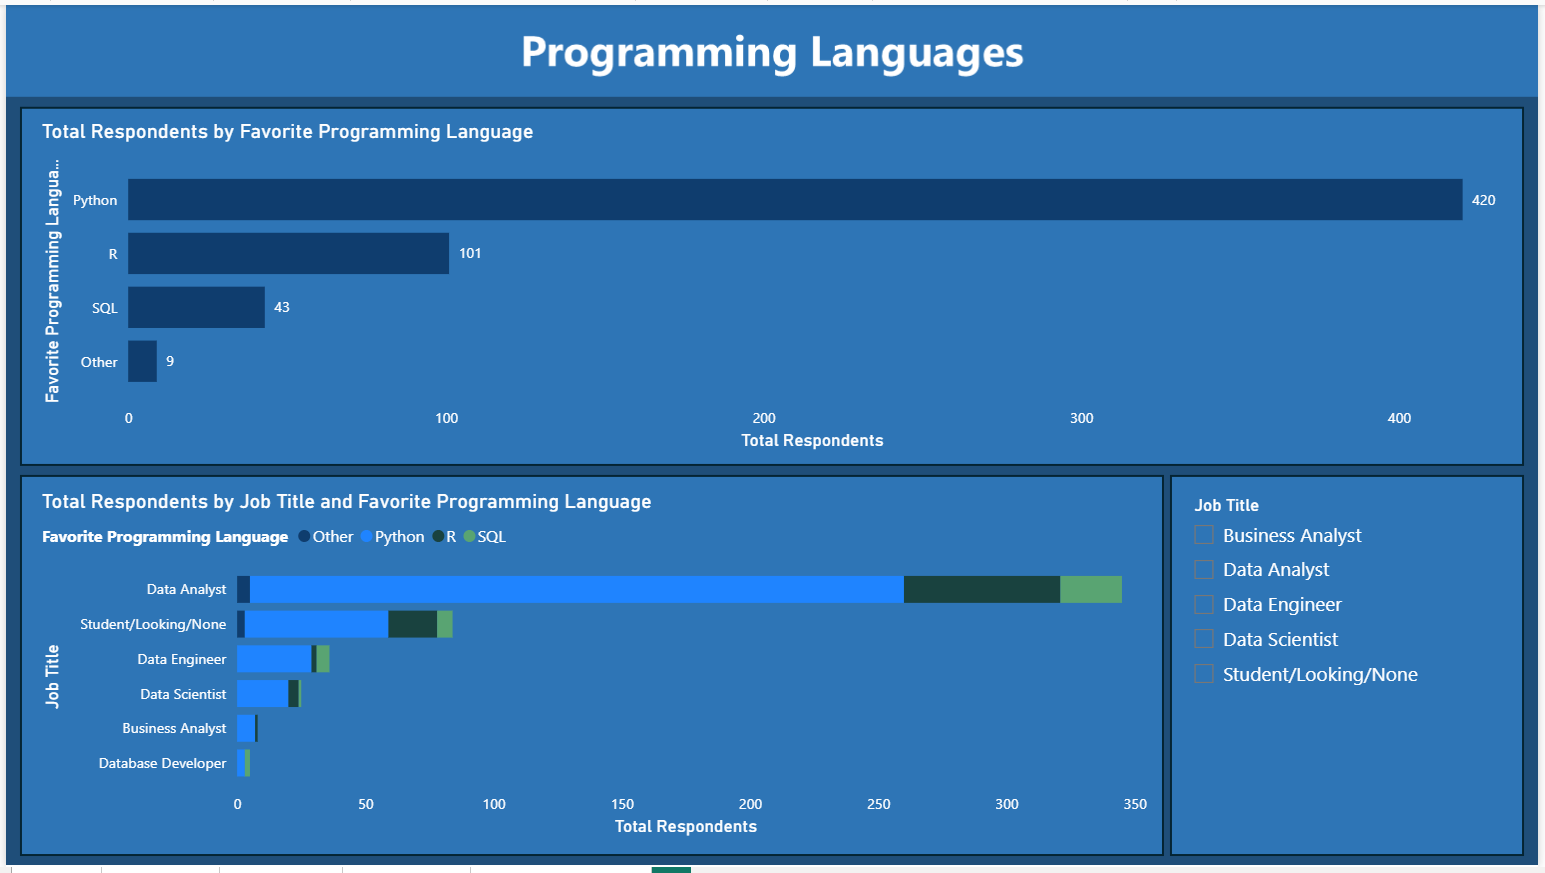

The page's visual inventory and layout, read from the dashboard file:
{"tool":"powerbi","page":{"name":"Programming Languages.","canvas":[1280,720],"ordinal":4},"visuals":[{"type":"clusteredBarChart","fields":{"Category":["Data Professional Survey.Favorite Programming Language"],"Y":["Data Professional Survey.Total Respondents"]},"box":[25.3,95.3,1235.3,281.1],"z":0},{"type":"barChart","fields":{"Category":["Data Professional Survey.Job Title"],"Y":["Data Professional Survey.Total Respondents"],"Series":["Data Professional Survey.Favorite Programming Language"]},"box":[25.3,404.6,932.8,294.7],"z":1000},{"type":"slicer","fields":{"Values":["Data Professional Survey.Job Title"]},"box":[979.5,404.6,281.1,294.7],"z":2000}]}

Visuals, with their boxes in screenshot pixels (x1, y1, x2, y2), scaled from the page's 1280x720 canvas onto the 1545x873 screenshot:
clusteredBarChart - Data Professional Survey.Favorite Programming Language x Data Professional Survey.Total Respondents: [x1=31, y1=116, x2=1522, y2=456]
barChart - Data Professional Survey.Job Title x Data Professional Survey.Total Respondents: [x1=31, y1=491, x2=1156, y2=848]
slicer - Data Professional Survey.Job Title: [x1=1182, y1=491, x2=1522, y2=848]
